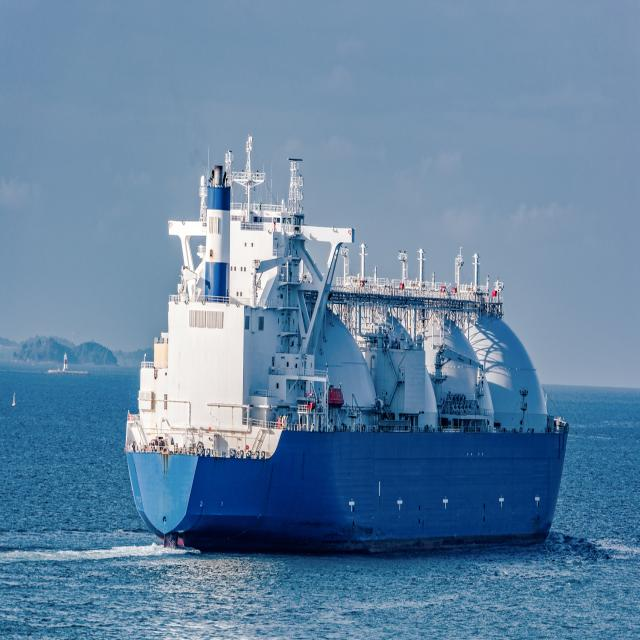boat: (123, 114, 578, 569)
